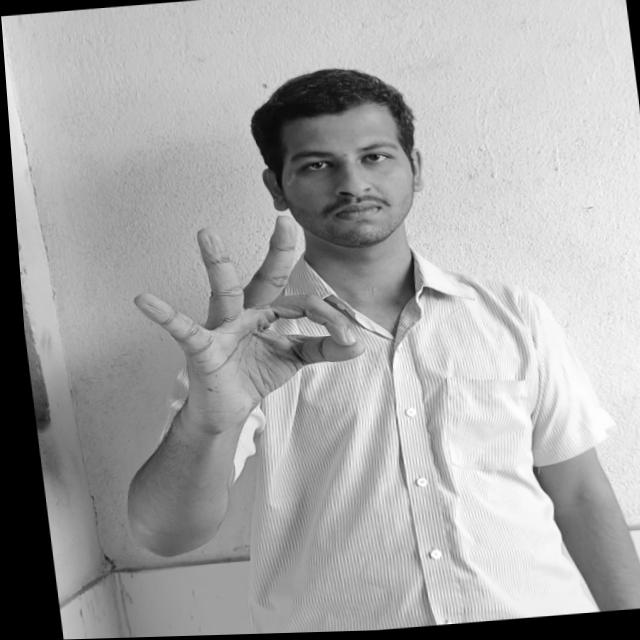Superb: (118, 213, 370, 407)
